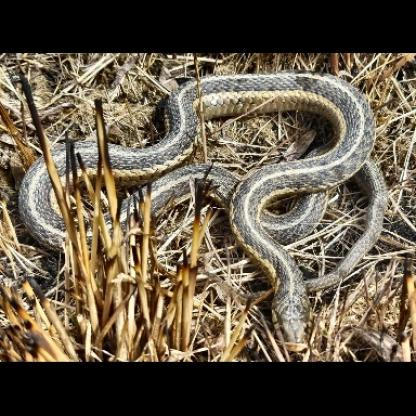Snake: (22, 70, 382, 346)
